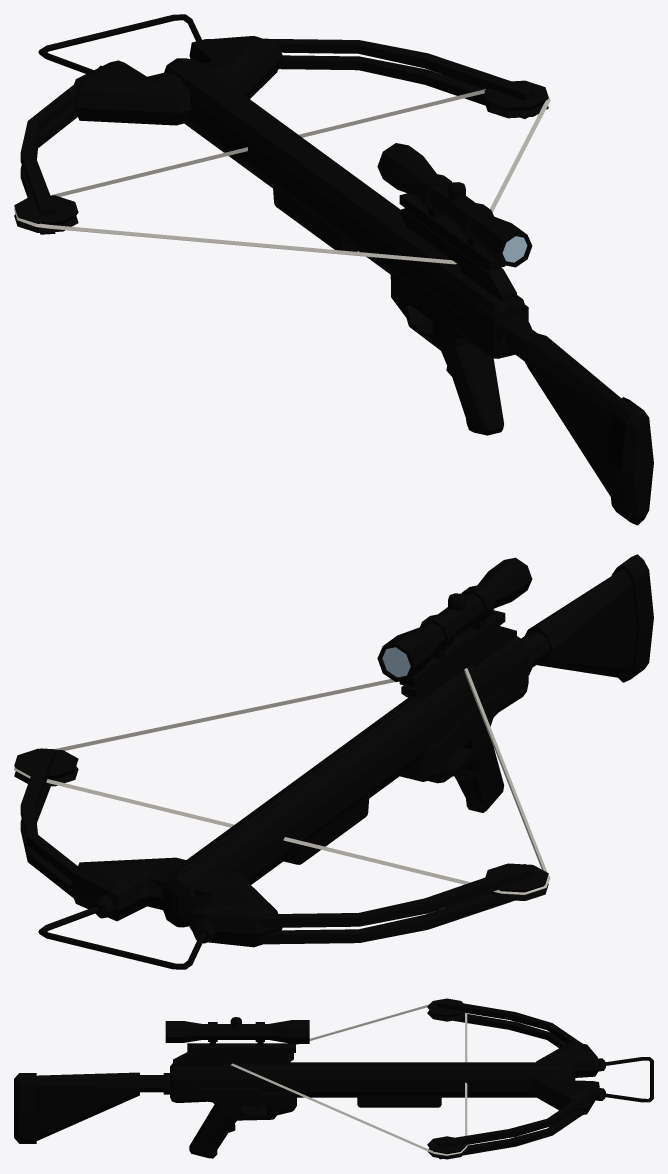
Rendered from crossbow.glb.
The picture shows the model from 3 angles, top to bottom: view 1: azimuth 30°, elevation 25°; view 2: azimuth 150°, elevation 25°; view 3: azimuth 270°, elevation 25°; orthographic projection. The views are drawn at different scales.
Visible parts, largest first — view 1: Crossbow; view 2: Crossbow; view 3: Crossbow.
Part boxes in pixels (<box>): Crossbow: <box>14,14,653,525</box>; Crossbow: <box>14,554,653,969</box>; Crossbow: <box>14,998,653,1159</box>.
Bounding box in the file's own units: 1.08 × 0.4475 × 1.88.
1 material, 1 textured.
